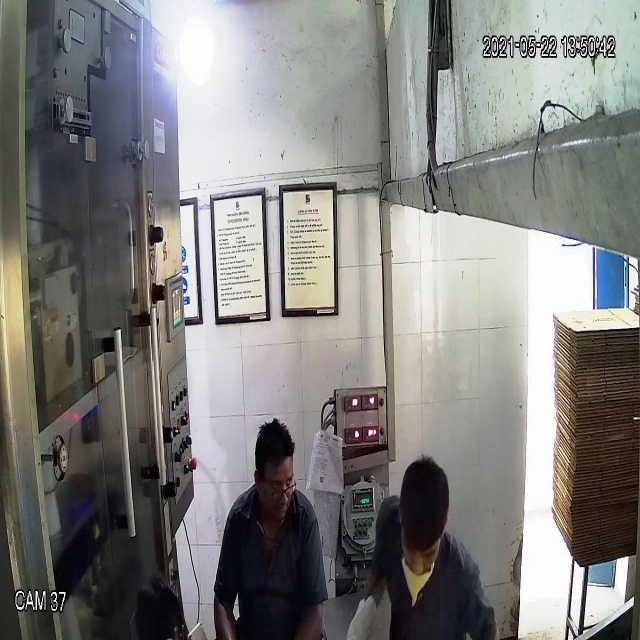Gafas: (251, 468, 299, 503)
